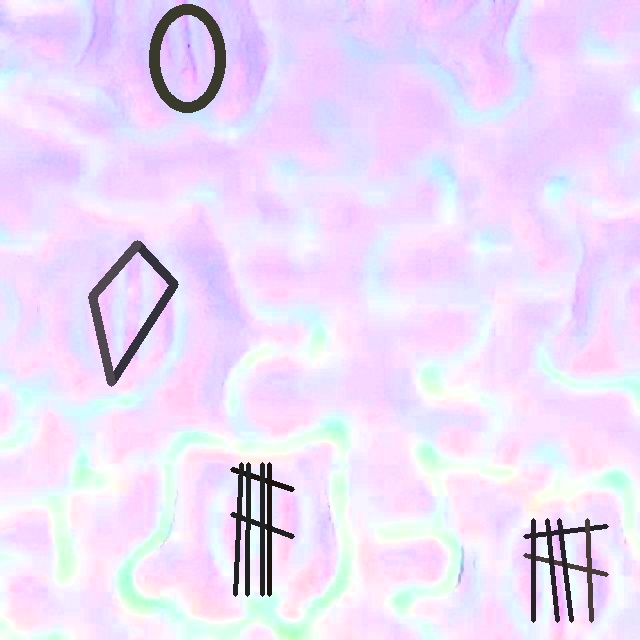close: (230, 462, 293, 596)
open: (89, 241, 177, 386), (523, 518, 608, 622), (149, 4, 225, 112)
